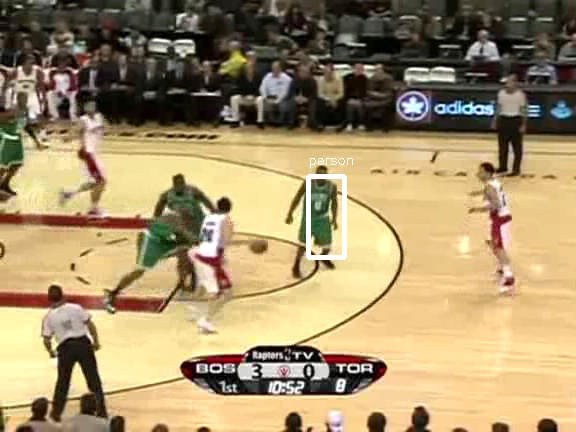person: (301, 173, 335, 254), (300, 173, 334, 254), (302, 173, 336, 254), (301, 172, 335, 253), (301, 174, 335, 255)
target_negative: (406, 151, 567, 349), (197, 95, 263, 382), (10, 180, 176, 289), (471, 107, 518, 315), (33, 95, 195, 100), (168, 405, 287, 411)
